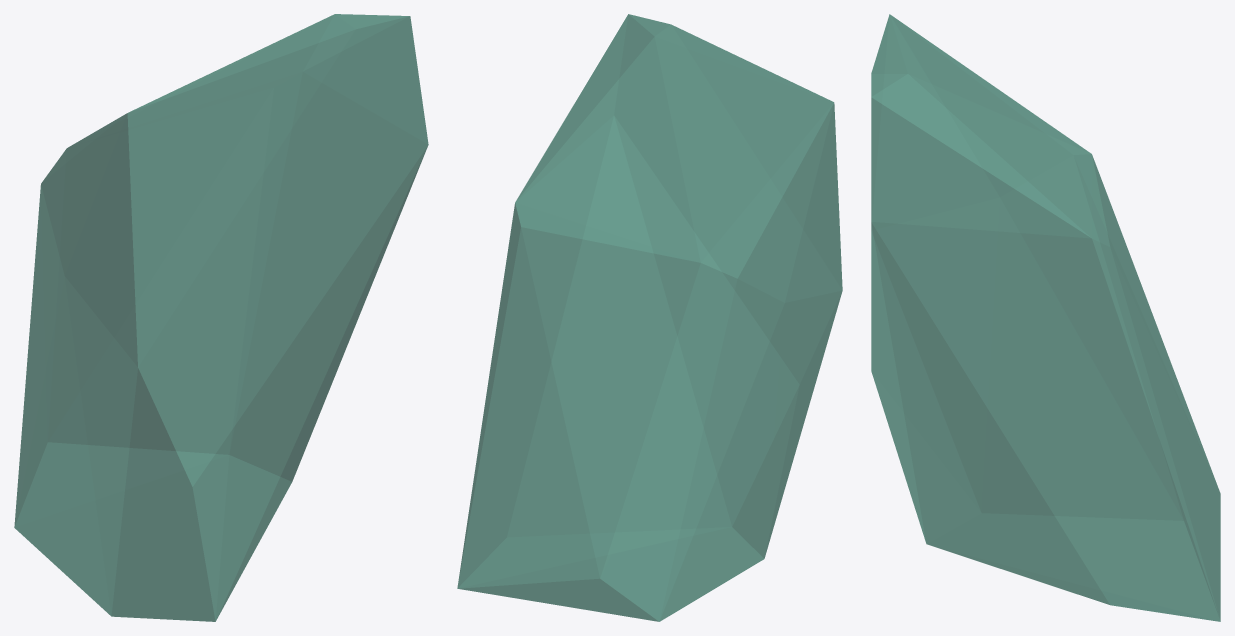
The picture shows the model from 3 angles, left to right: view 1: azimuth 30°, elevation 25°; view 2: azimuth 150°, elevation 25°; view 3: azimuth 270°, elevation 25°; orthographic projection. The views are drawn at different scales.
Visible parts, largest first — view 1: Shape_IndexedFaceSet.042_Shape_IndexedFaceSet.15247; view 2: Shape_IndexedFaceSet.042_Shape_IndexedFaceSet.15247; view 3: Shape_IndexedFaceSet.042_Shape_IndexedFaceSet.15247.
Part boxes in pixels (x1=…): Shape_IndexedFaceSet.042_Shape_IndexedFaceSet.15247: x1=14, y1=14, x2=428, y2=621; Shape_IndexedFaceSet.042_Shape_IndexedFaceSet.15247: x1=457, y1=14, x2=842, y2=621; Shape_IndexedFaceSet.042_Shape_IndexedFaceSet.15247: x1=871, y1=14, x2=1220, y2=621.
Bounding box in the file's own units: 0.00697 × 0.0135 × 0.00827.
